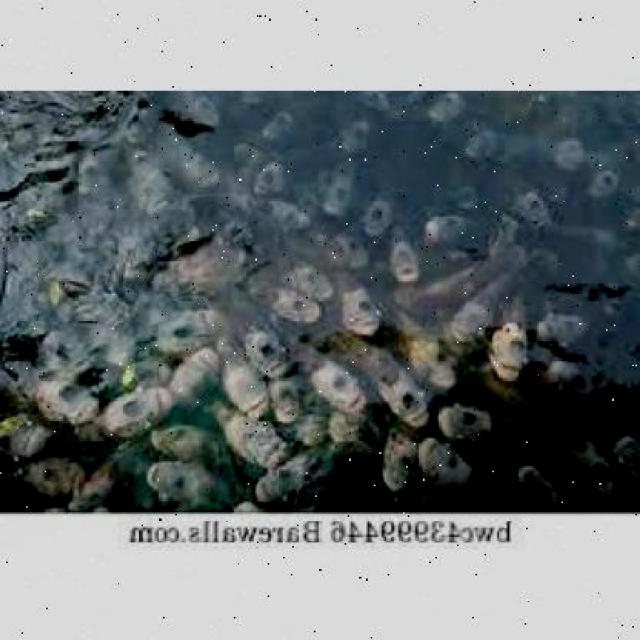gurame: (361, 344, 434, 424), (454, 274, 518, 344), (250, 450, 318, 512), (494, 292, 537, 386), (300, 348, 371, 403), (400, 308, 456, 376), (220, 348, 276, 416), (144, 455, 204, 508), (242, 307, 290, 373), (419, 436, 479, 487), (340, 269, 380, 340), (276, 257, 338, 300), (439, 400, 498, 437), (386, 226, 420, 288), (270, 282, 324, 320), (322, 160, 358, 214), (366, 181, 397, 234), (520, 456, 556, 498), (428, 208, 467, 242)
